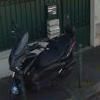Motorcycle: (9, 30, 78, 97)
